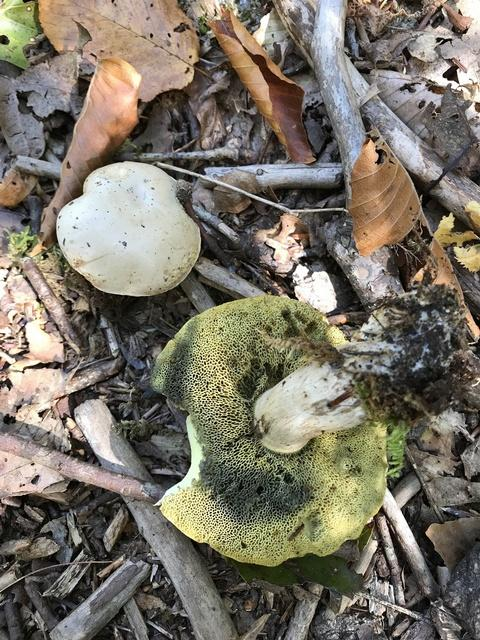edible_mushroom: (149, 293, 390, 568), (54, 159, 202, 297)
